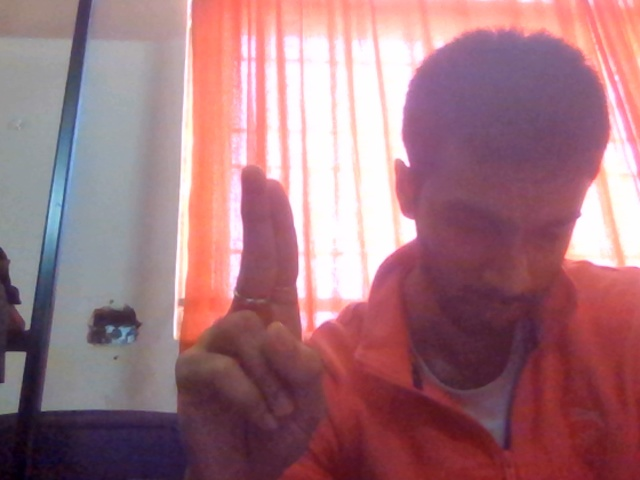U: (171, 138, 383, 480)
